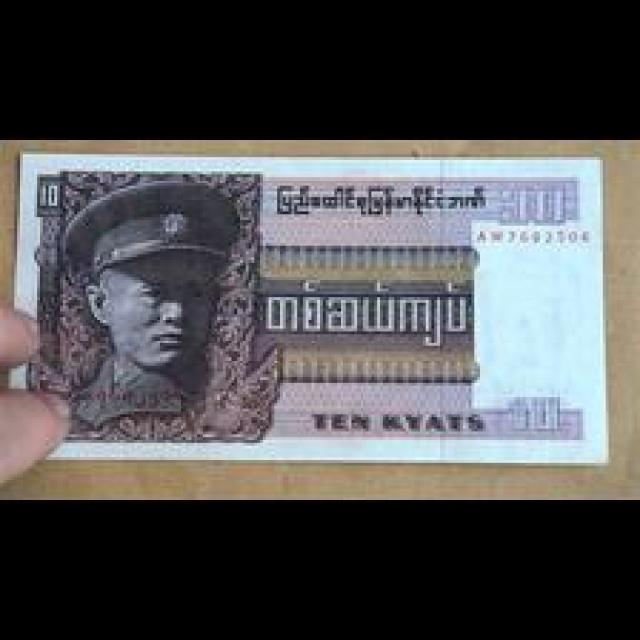banknote: (9, 146, 612, 466)
